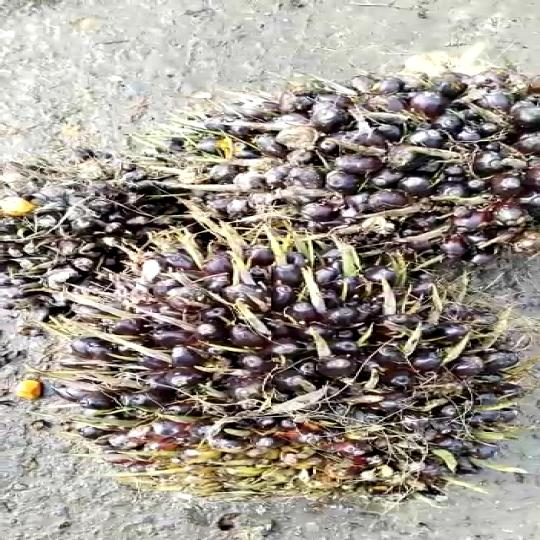mentah: (31, 214, 526, 502), (148, 67, 540, 288), (0, 130, 167, 296)
